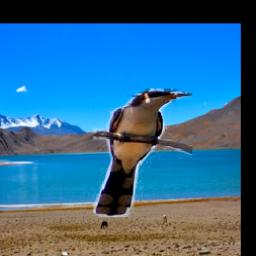Cuckoo: (93, 89, 192, 217)
